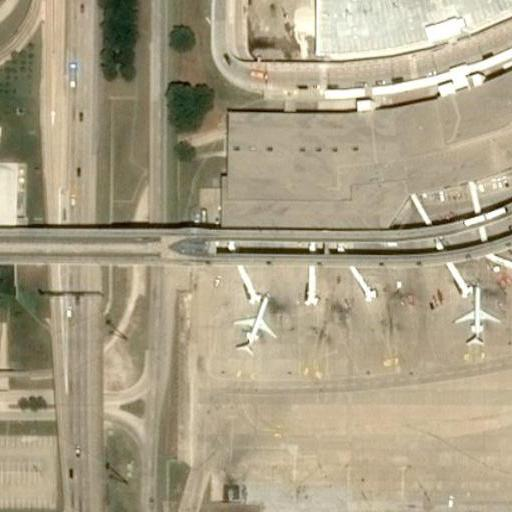Aircraft: (231, 297, 281, 355), (452, 287, 498, 346)
